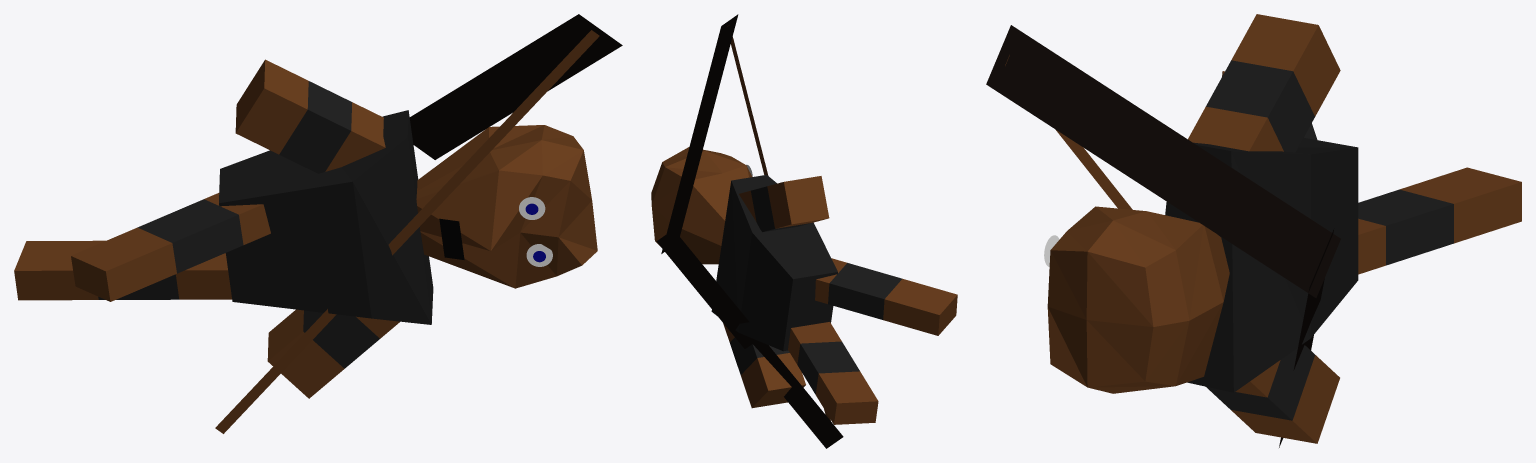
Rendered from archer3d.obj.
The picture shows the model from 3 angles, left to right: view 1: azimuth 30°, elevation 25°; view 2: azimuth 150°, elevation 25°; view 3: azimuth 270°, elevation 25°; orthographic projection. The views are drawn at different scales.
Visible parts, largest first — view 1: Cube.001, Cube, Cube.004, Cube.003, Plane.002_Plane.003, Cube.005, Cube.002, Plane.003_Plane.004, Plane; view 2: Cube.001, Cube, Cube.004, Cube.005, Plane.001_Plane.002, Cube.003, Plane.002_Plane.003, Cube.002, Plane.003_Plane.004; view 3: Cube, Plane.002_Plane.003, Cube.001, Cube.003, Cube.005, Cube.002, Plane.003_Plane.004, Plane.001_Plane.002.
Part boxes in pixels (x1,y1,x2,y2): Cube.001: [219, 110, 433, 324]; Cube: [416, 125, 597, 288]; Cube.004: [71, 193, 270, 301]; Cube.003: [235, 59, 385, 173]; Plane.002_Plane.003: [409, 14, 622, 159]; Cube.005: [14, 240, 231, 300]; Cube.002: [267, 309, 399, 398]; Plane.003_Plane.004: [215, 30, 599, 433]; Plane: [439, 218, 464, 259]; Cube.001: [711, 175, 837, 351]; Cube: [651, 147, 752, 264]; Cube.004: [815, 258, 957, 335]; Cube.005: [788, 322, 878, 424]; Plane.001_Plane.002: [656, 229, 843, 448]; Cube.003: [739, 176, 829, 232]; Plane.002_Plane.003: [661, 14, 738, 253]; Cube.002: [723, 323, 805, 408]; Plane.003_Plane.004: [727, 25, 830, 420]; Cube: [1047, 206, 1229, 393]; Plane.002_Plane.003: [986, 25, 1340, 297]; Cube.001: [1165, 138, 1358, 392]; Cube.003: [1188, 14, 1340, 152]; Cube.005: [1358, 167, 1521, 274]; Cube.002: [1206, 345, 1339, 443]; Plane.003_Plane.004: [1005, 55, 1132, 209]; Plane.001_Plane.002: [1279, 228, 1334, 447].
Bounding box in the file's own units: 5.34 × 5.17 × 4.48.
